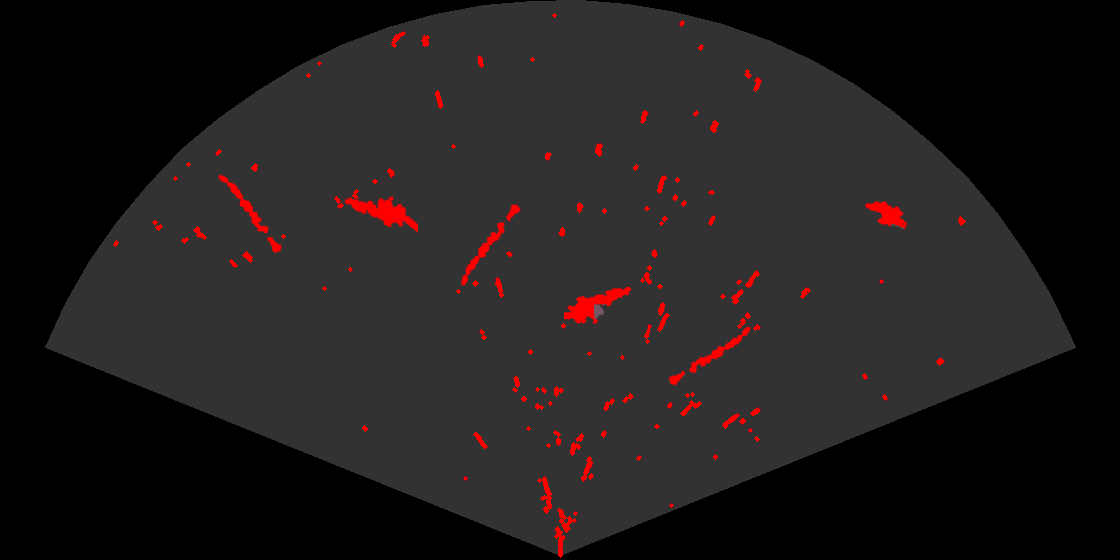AUV: (864, 200, 909, 231)
chain: (217, 173, 283, 255), (459, 203, 522, 287), (667, 325, 752, 387)
frogman: (343, 195, 418, 235), (564, 285, 632, 326)
